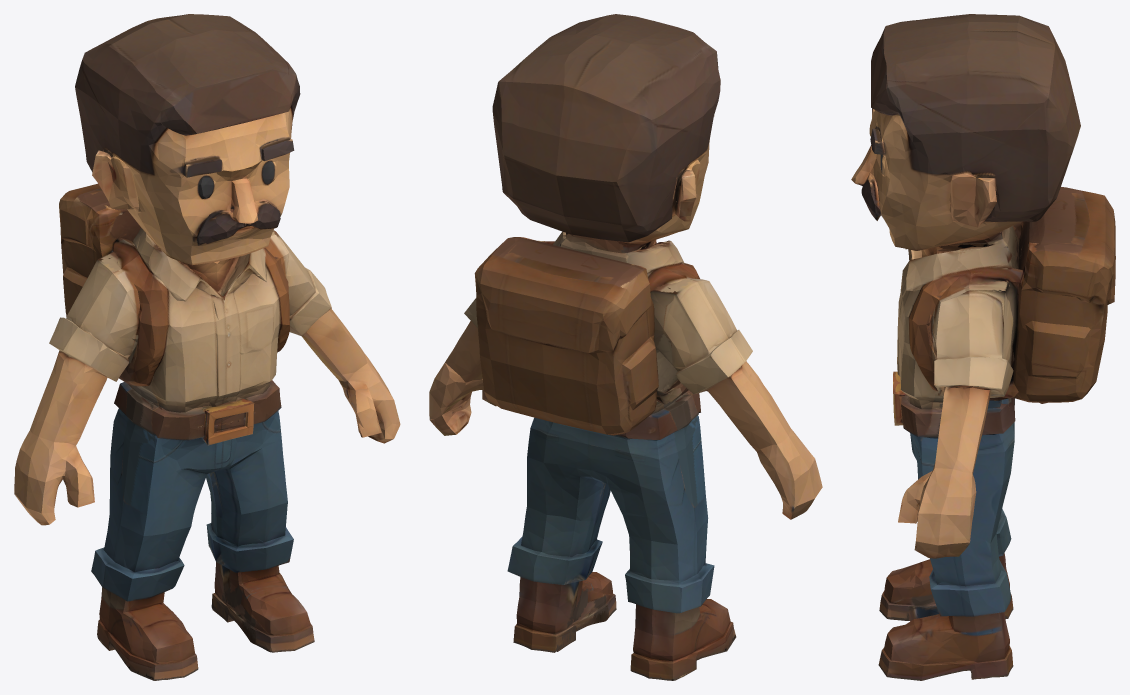
Rendered from Explorer_Pixelman_0612055223_texture.fbx.
3 renders of one model, left to right at view 1: azimuth 30°, elevation 25°; view 2: azimuth 150°, elevation 25°; view 3: azimuth 270°, elevation 25°, orthographic.
Visible parts, largest first — view 1: temp; view 2: temp; view 3: temp.
Part boxes in pixels (x1,y1,x2,y2): temp: (14, 14, 400, 680); temp: (429, 14, 822, 680); temp: (851, 14, 1115, 680).
Size of the model in its own units: 129 by 200 by 79.08.
Materials: 1 (1 with a texture image).
